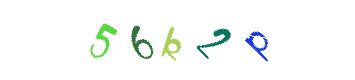2: (138, 0, 218, 80)
5: (64, 0, 144, 80)
6: (121, 0, 201, 80)
K: (137, 0, 217, 80)
P: (217, 0, 297, 80)
